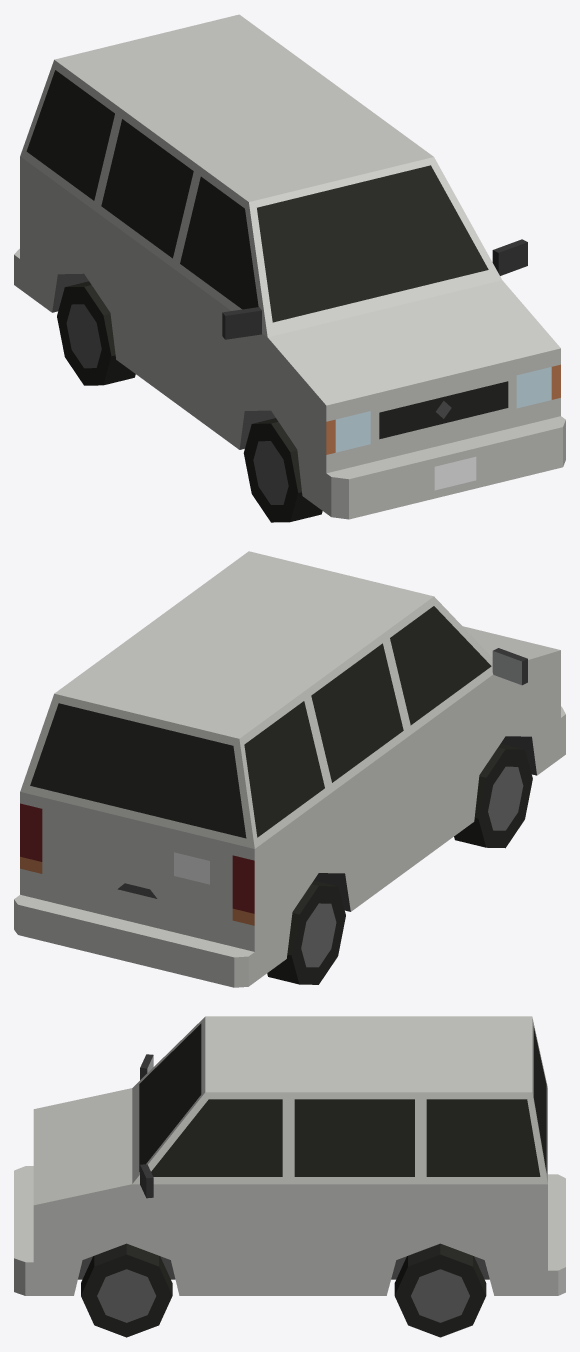
The model's file is Veh_Minivan_White.glb.
3 renders of one model, top to bottom at view 1: azimuth 30°, elevation 25°; view 2: azimuth 150°, elevation 25°; view 3: azimuth 270°, elevation 25°, orthographic. The views are drawn at different scales.
Parts seen in each view (by area): view 1: Minivan_White, Wheel_RR, Wheel_FR; view 2: Minivan_White, Wheel_RR, Wheel_FR; view 3: Minivan_White, Wheel_RL, Wheel_FL.
Part boxes in pixels (<box>): Minivan_White: <box>14,14,565,519</box>; Wheel_RR: <box>57,281,135,385</box>; Wheel_FR: <box>243,418,322,522</box>; Minivan_White: <box>14,551,565,987</box>; Wheel_RR: <box>267,880,345,984</box>; Wheel_FR: <box>454,744,532,848</box>; Minivan_White: <box>14,1016,565,1295</box>; Wheel_RL: <box>394,1243,486,1337</box>; Wheel_FL: <box>81,1243,172,1337</box>.
Size of the model in its own units: 1.31 by 1.16 by 2.46.
1 material, 1 textured.
